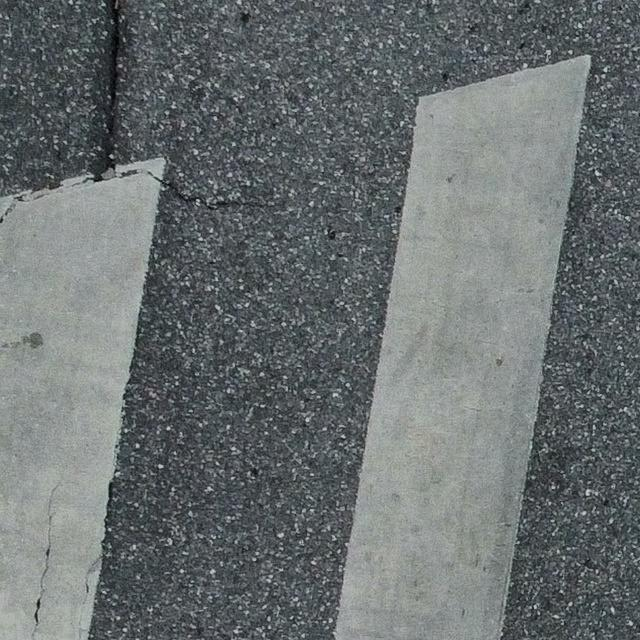LongitudinalCrack: (101, 1, 122, 183)
